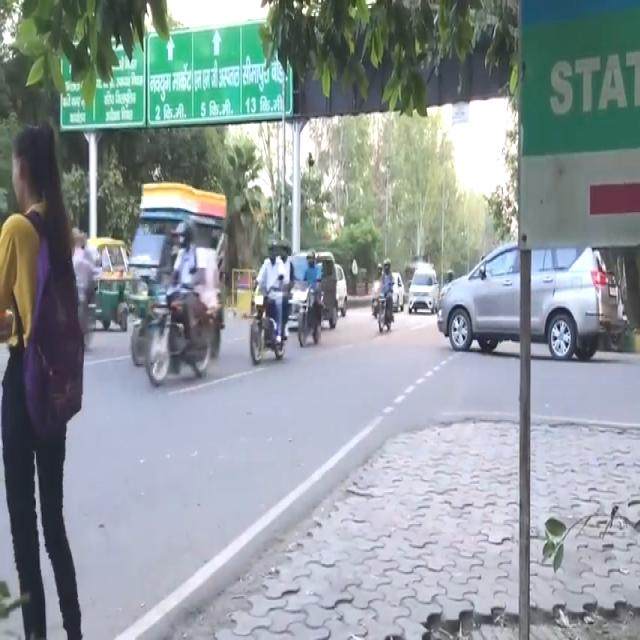MOTORCYCLE: (134, 283, 226, 393), (249, 285, 290, 365), (296, 286, 319, 344), (371, 278, 394, 331)
SUV: (438, 233, 630, 362)
